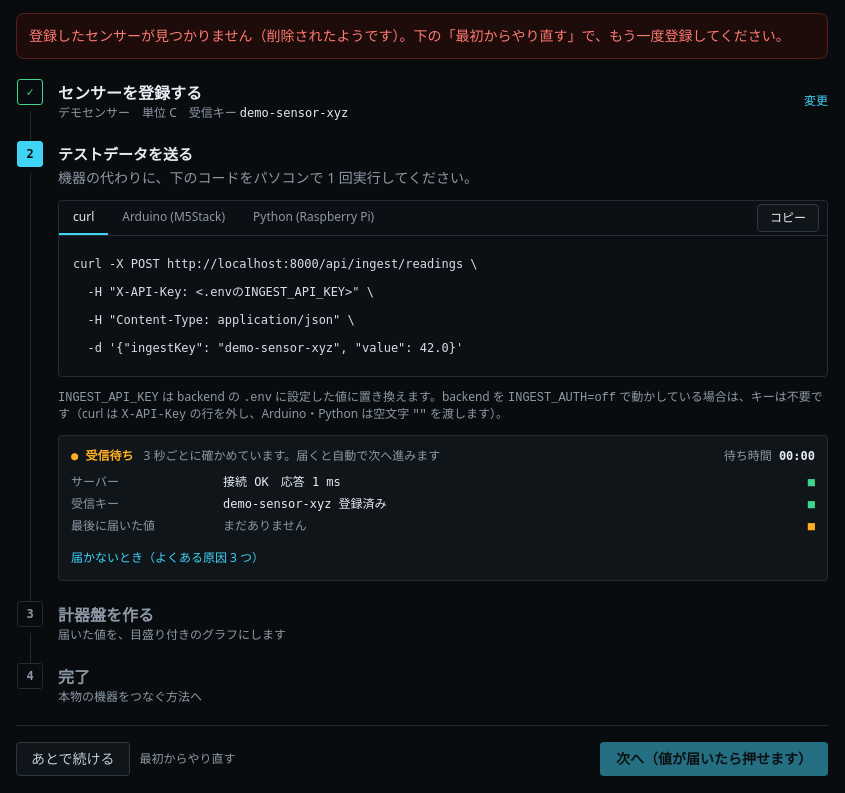
Test case: SetupWizard › 覚えたセンサーが削除されていて、取得が 404 のときは、待ち続けず、最初からやり直すよう案内する
The width and height of the screenshot is (845, 793).
(page scrolled)
Expected: the message shows "登録したセンサーが見つかりません", top-left (29, 26), bottom-right (790, 45)
Expected: the message shows "最初からやり直す", top-left (29, 26), bottom-right (790, 45)
# 案内のとおり、やり直すと段階 1 に戻り、案内は消える
Click the button "最初からやり直す": point(188, 758) top-left (140, 750), bottom-right (236, 766)
(page scrolled)
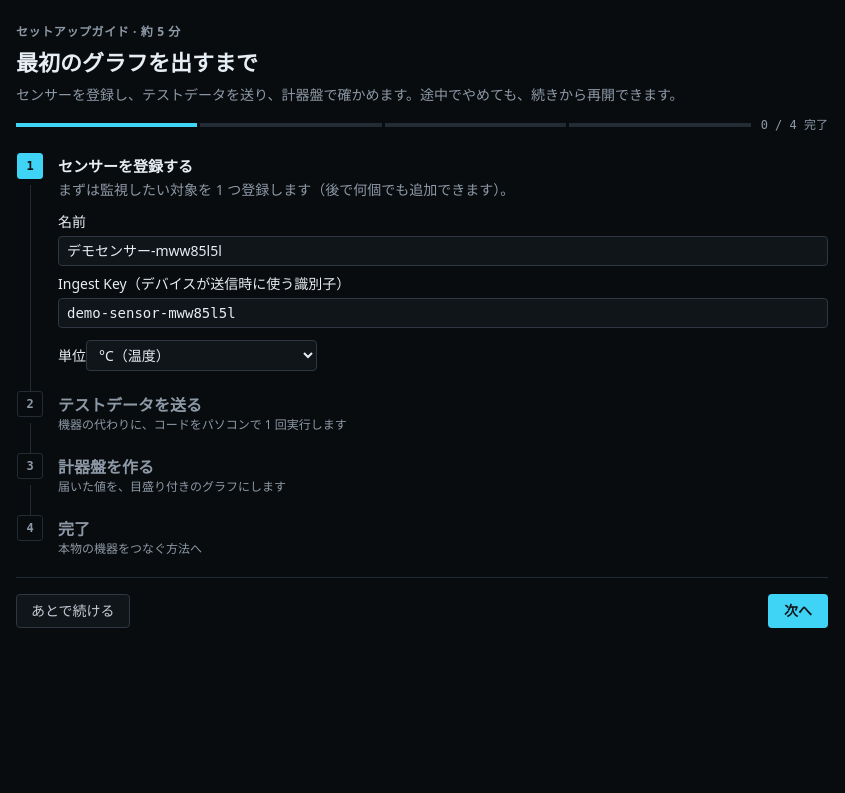
Expected: the message "登録したセンサーが見つかりません（削除されたようです）。下の「最初からやり直す」で、もう一度登録してください。" is gone
Expected: the field labelled "名前" is shown, top-left (58, 236), bottom-right (828, 266)
